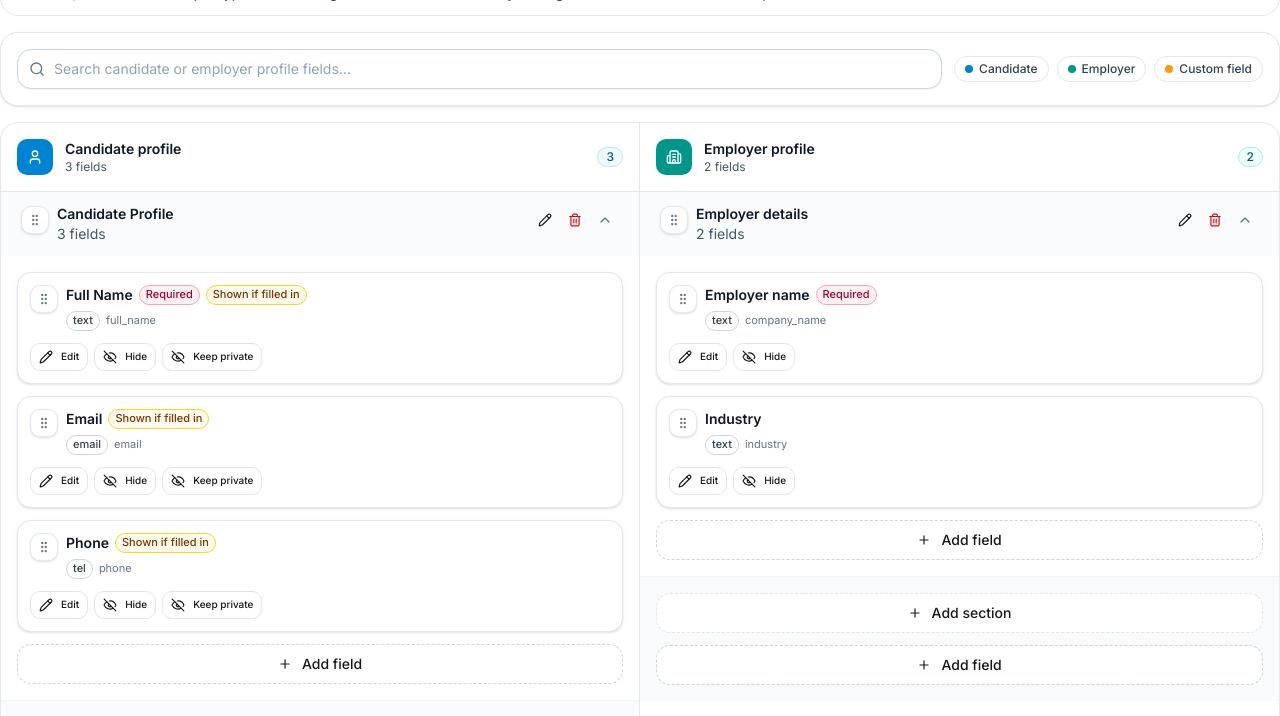
Test: FormFieldsComparisonEditor › opens inline edit for a field
This screenshot has width=1280, height=716.
(page scrolled)
Expected: the text "Full Name" is shown, x1=66 y1=286 x2=133 y2=302
What coordinates should you click on to do the following:
click the button "Edit" below "full_name"
I would click on:
 (59, 356)
Its box is x1=30 y1=342 x2=88 y2=370.
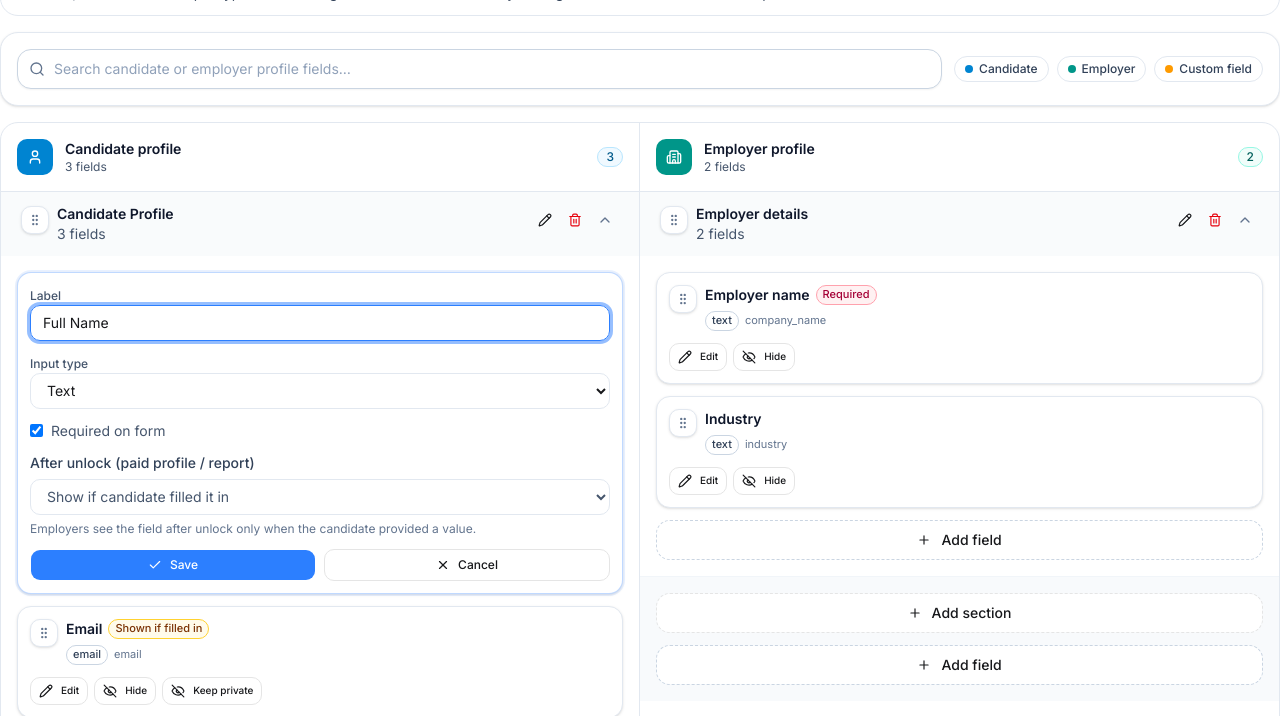
Expected: the field showing "Full Name" is shown, x1=30 y1=304 x2=610 y2=340
Expected: the button "Save" is shown, x1=30 y1=548 x2=316 y2=580
